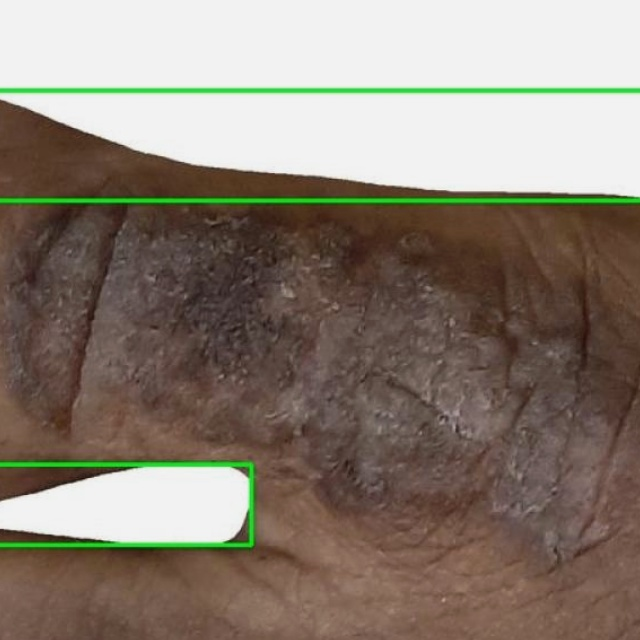Contact Dermatitis: (0, 90, 639, 639), (0, 0, 639, 200), (0, 464, 251, 544)
